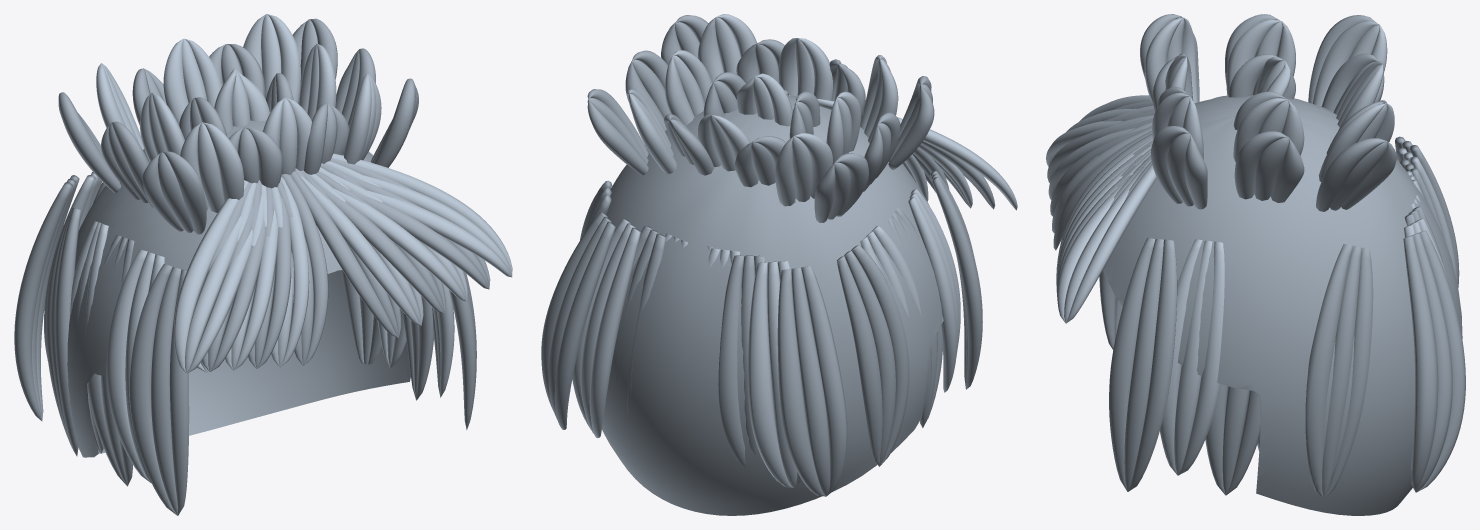
The picture shows the model from 3 angles, left to right: view 1: azimuth 30°, elevation 25°; view 2: azimuth 150°, elevation 25°; view 3: azimuth 270°, elevation 25°; orthographic projection. The views are drawn at different scales.
Visible parts, largest first — view 1: CrownHair_male_ref11, SideHair_-1_0_Strand2, SideHair_-1_0_Strand1, BackHair_00_Strand0, SideHair_-1_1_Strand2, SideHair_-1_4_Strand0, FrontHair_CenterPart_-1_5_Strand2, FrontHair_CenterPart_1_0_Strand2, SideHair_-1_0_Strand0, FrontHair_CenterPart_-1_0_Strand0, FrontHair_CenterPart_1_1_Strand2, FrontHair_CenterPart_1_2_Strand2 (+75 smaller); view 2: CrownHair_male_ref11, BackHair_00_Strand2, BackHair_01_Strand2, BackHair_00_Strand1, BackHair_00_Strand0, BackHair_02_Strand2, SideHair_-1_4_Strand2, BackHair_07_Strand0, BackHair_08_Strand0, SideHair_-1_0_Strand2, SideHair_-1_4_Strand0, SideHair_-1_4_Strand1 (+59 smaller); view 3: CrownHair_male_ref11, BackHair_08_Strand2, SideHair_1_4_Strand2, SideHair_1_0_Strand0, SideHair_1_0_Strand2, SideHair_1_0_Strand1, SideHair_1_4_Strand1, SideHair_1_4_Strand0, SideHair_1_1_Strand0, BackHair_08_Strand0, BackHair_08_Strand1, SideHair_1_1_Strand1 (+51 smaller).
Part boxes in pixels (left/top/right/bottom): CrownHair_male_ref11: left=67, top=112, right=410, bottom=457; SideHair_-1_0_Strand2: left=129, top=264, right=177, bottom=515; SideHair_-1_0_Strand1: left=151, top=266, right=181, bottom=515; BackHair_00_Strand0: left=14, top=182, right=72, bottom=421; SideHair_-1_1_Strand2: left=106, top=249, right=150, bottom=482; SideHair_-1_4_Strand0: left=55, top=208, right=81, bottom=456; FrontHair_CenterPart_-1_5_Strand2: left=174, top=180, right=248, bottom=373; FrontHair_CenterPart_1_0_Strand2: left=291, top=171, right=398, bottom=337; SideHair_-1_0_Strand0: left=169, top=269, right=189, bottom=515; FrontHair_CenterPart_-1_0_Strand0: left=281, top=174, right=328, bottom=365; FrontHair_CenterPart_1_1_Strand2: left=299, top=175, right=421, bottom=325; FrontHair_CenterPart_1_2_Strand2: left=318, top=184, right=443, bottom=313; CrownHair_male_ref11: left=602, top=95, right=943, bottom=515; BackHair_00_Strand2: left=777, top=269, right=825, bottom=496; BackHair_01_Strand2: left=748, top=262, right=792, bottom=487; BackHair_00_Strand1: left=791, top=267, right=830, bottom=496; BackHair_00_Strand0: left=801, top=266, right=847, bottom=495; BackHair_02_Strand2: left=718, top=255, right=745, bottom=466; SideHair_-1_4_Strand2: left=836, top=256, right=882, bottom=466; BackHair_07_Strand0: left=589, top=227, right=640, bottom=438; BackHair_08_Strand0: left=554, top=221, right=615, bottom=429; SideHair_-1_0_Strand2: left=931, top=176, right=982, bottom=389; SideHair_-1_4_Strand0: left=851, top=245, right=909, bottom=465; SideHair_-1_4_Strand1: left=844, top=250, right=895, bottom=466; CrownHair_male_ref11: left=1103, top=95, right=1462, bottom=515; BackHair_08_Strand2: left=1403, top=235, right=1438, bottom=492; SideHair_1_4_Strand2: left=1305, top=244, right=1352, bottom=498; SideHair_1_0_Strand0: left=1128, top=239, right=1177, bottom=491; SideHair_1_0_Strand2: left=1109, top=238, right=1155, bottom=491; SideHair_1_0_Strand1: left=1124, top=239, right=1163, bottom=491; SideHair_1_4_Strand1: left=1322, top=245, right=1361, bottom=498; SideHair_1_4_Strand0: left=1324, top=247, right=1373, bottom=498; SideHair_1_1_Strand0: left=1178, top=241, right=1224, bottom=475; BackHair_08_Strand0: left=1416, top=230, right=1465, bottom=492; BackHair_08_Strand1: left=1410, top=233, right=1452, bottom=492; SideHair_1_1_Strand1: left=1174, top=240, right=1212, bottom=475.
Size of the model in its own units: 0.7251 by 0.8409 by 0.7387.
